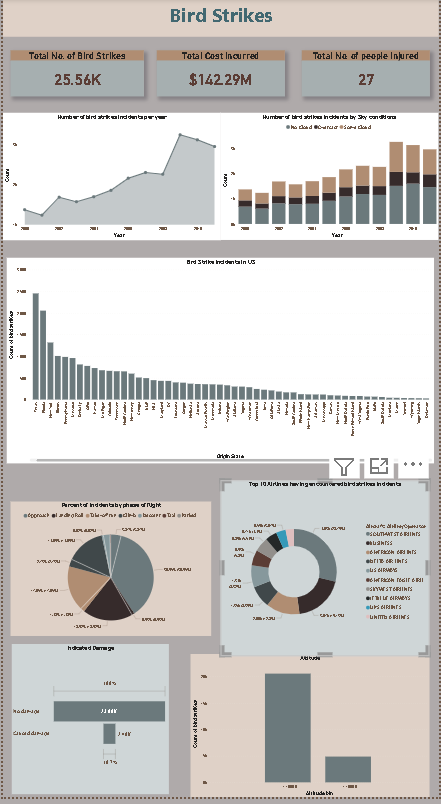

The page's visual inventory and layout, read from the dashboard file:
{"tool":"powerbi","page":{"name":"BIRD STRIKES","canvas":[1200,2200],"ordinal":0},"visuals":[{"type":"stackedAreaChart","title":"Number of bird strikes incidents per year","fields":{"Category":["Bird Strikes.FlightDate.Variation.Date Hierarchy.Year"],"Y":["CountNonNull(Bird Strikes.bird strikes)"]},"box":[0,314.9,600,351.4],"z":0},{"type":"donutChart","title":"Top 10 Airlines having encountered bird strikes incidents","fields":{"Category":["Bird Strikes.Aircraft: Airline/Operator"],"Y":["CountNonNull(Bird Strikes.bird strikes)"]},"box":[600,1280,575,485],"z":1000},{"type":"columnChart","title":"Number of bird strikes incidents by Sky conditions","fields":{"Category":["Bird Strikes.FlightDate.Variation.Date Hierarchy.Year"],"Y":["CountNonNull(Bird Strikes.bird strikes)"],"Series":["Bird Strikes.Conditions: Sky"]},"box":[600,315,600,350],"z":2000},{"type":"pieChart","title":"Percent of incidents by phase of flight","fields":{"Category":["Bird Strikes.When: Phase of flight"],"Y":["Divide(CountNonNull(Bird Strikes.bird strikes), ScopedEval(CountNonNull(Bird Strikes.bird strikes), []))"],"Series":["Bird Strikes.Effect: Indicated Damage"]},"box":[20,1382.5,552.5,370],"z":5000},{"type":"funnel","title":"Indicated Damage","fields":{"Category":["Bird Strikes.Effect: Indicated Damage"],"Y":["CountNonNull(Bird Strikes.bird strikes)"]},"box":[23.8,1777.5,432.5,413.8],"z":6000},{"type":"clusteredColumnChart","title":"Altitude","fields":{"Category":["Bird Strikes.Altitude bin"],"Y":["CountNonNull(Bird Strikes.bird strikes)"]},"box":[516.2,1802.5,658.8,397.5],"z":7000},{"type":"textbox","box":[0,0,1200,104.1],"z":9000},{"type":"lineClusteredColumnComboChart","title":"Bird Strike incidents in US","fields":{"Category":["Bird Strikes.Origin State"],"Y":["CountNonNull(Bird Strikes.bird strikes)"]},"box":[11.7,713.3,1176.7,566.7],"z":10000},{"type":"card","title":"Total No. of Bird Strikes","fields":{"Values":["CountNonNull(Bird Strikes.bird strikes)"]},"box":[20.3,141.9,367.6,127],"z":11000},{"type":"card","title":"Total Cost Incurred","fields":{"Values":["Sum(Bird Strikes.Cost: Total $)"]},"box":[424.3,141.9,352.7,127],"z":12000},{"type":"card","title":"Total No. of people injured","fields":{"Values":["Sum(Bird Strikes.Number of people injured)"]},"box":[823,141.9,352.7,127],"z":13000}]}

Visuals, with their boxes in screenshot pixels (x1, y1, x2, y2), scaled from the page's 1200x2200 canvas onto the 441x804 screenshot:
"Number of bird strikes incidents per year" stackedAreaChart: left=0, top=115, right=220, bottom=244
"Top 10 Airlines having encountered bird strikes incidents" donutChart: left=220, top=468, right=432, bottom=645
"Number of bird strikes incidents by Sky conditions" columnChart: left=220, top=115, right=440, bottom=243
"Percent of incidents by phase of flight" pieChart: left=7, top=505, right=210, bottom=640
"Indicated Damage" funnel: left=9, top=650, right=168, bottom=801
"Altitude" clusteredColumnChart: left=190, top=659, right=432, bottom=803
textbox: left=0, top=0, right=440, bottom=38
"Bird Strike incidents in US" lineClusteredColumnComboChart: left=4, top=261, right=437, bottom=468
"Total No. of Bird Strikes" card: left=7, top=52, right=143, bottom=98
"Total Cost Incurred" card: left=156, top=52, right=286, bottom=98
"Total No. of people injured" card: left=302, top=52, right=432, bottom=98
